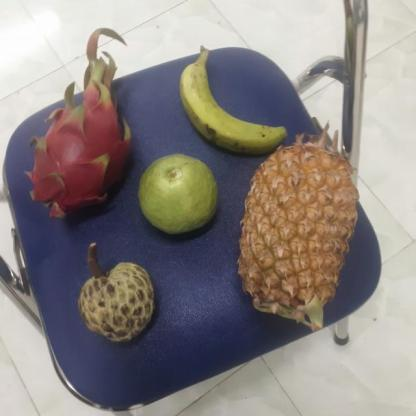annona: (78, 260, 160, 342)
banana: (181, 51, 296, 154)
guava: (140, 155, 224, 235)
pineapple: (236, 142, 366, 321)
pitaya: (31, 98, 136, 217)
